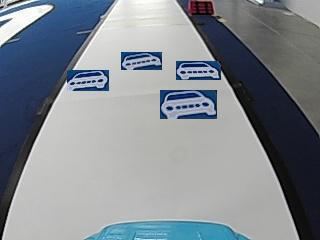bomb: (188, 0, 214, 13)
